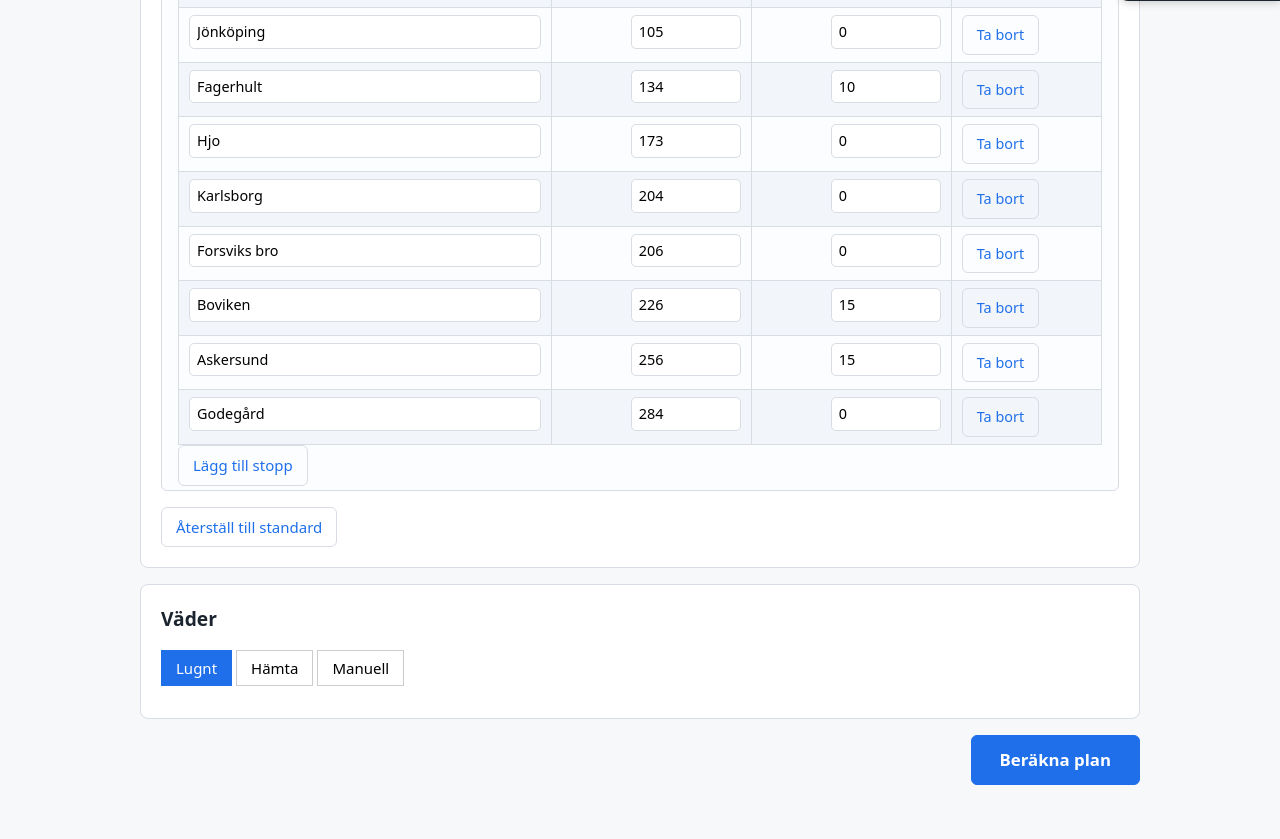
it: WeatherPanel manual-wind toggle › renders both reference options in manual mode
(page scrolled)
Click the button "Manuell": (361, 668) [317,650,404,686]
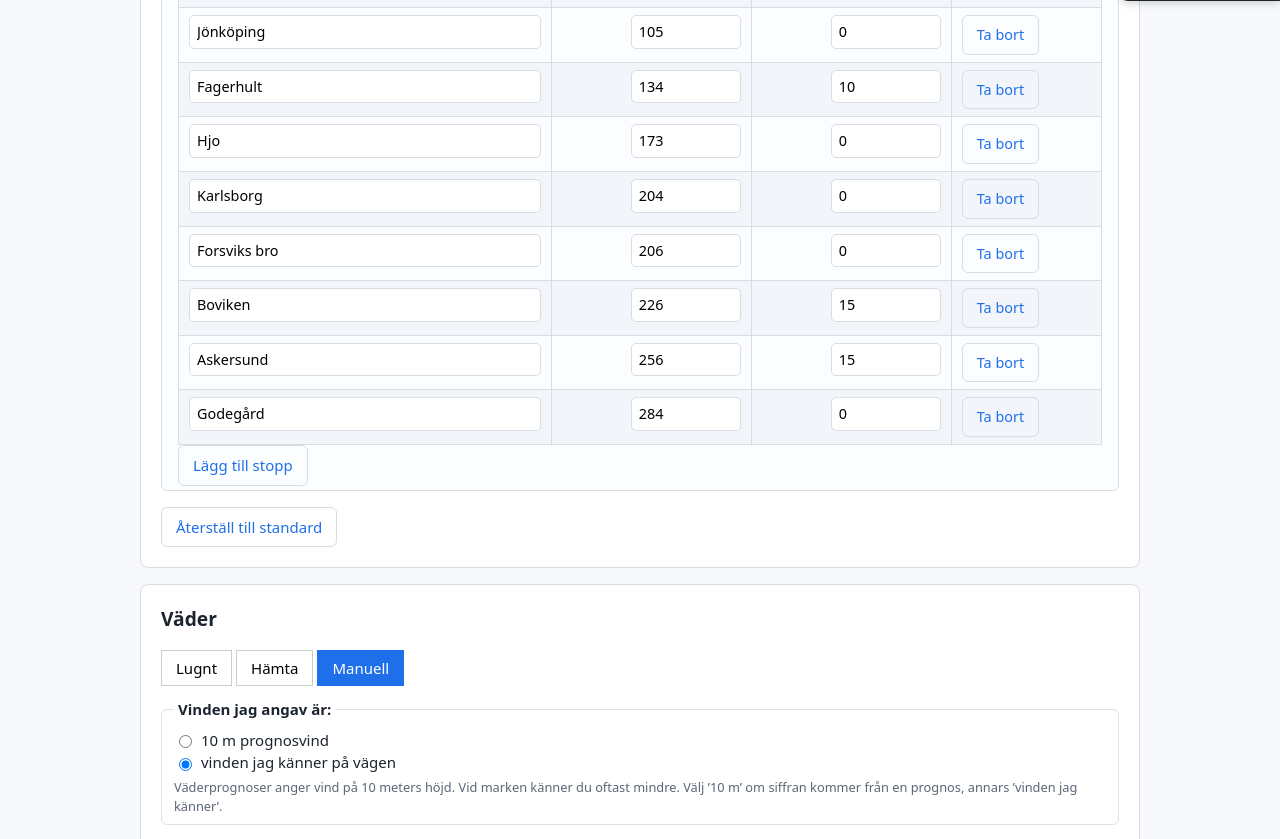
Expected: the radio button labelled "10 m prognosvind" is shown, [179,735,192,748]
Expected: the radio button labelled "vinden jag känner på vägen" is shown, [179,758,192,771]
